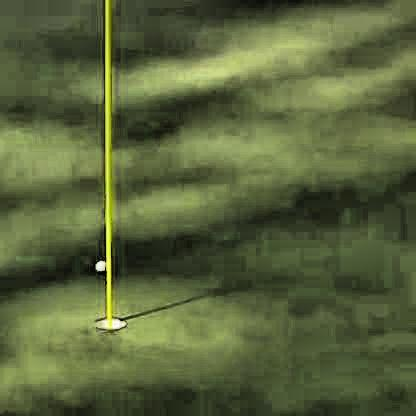golfball: (93, 258, 104, 269)
